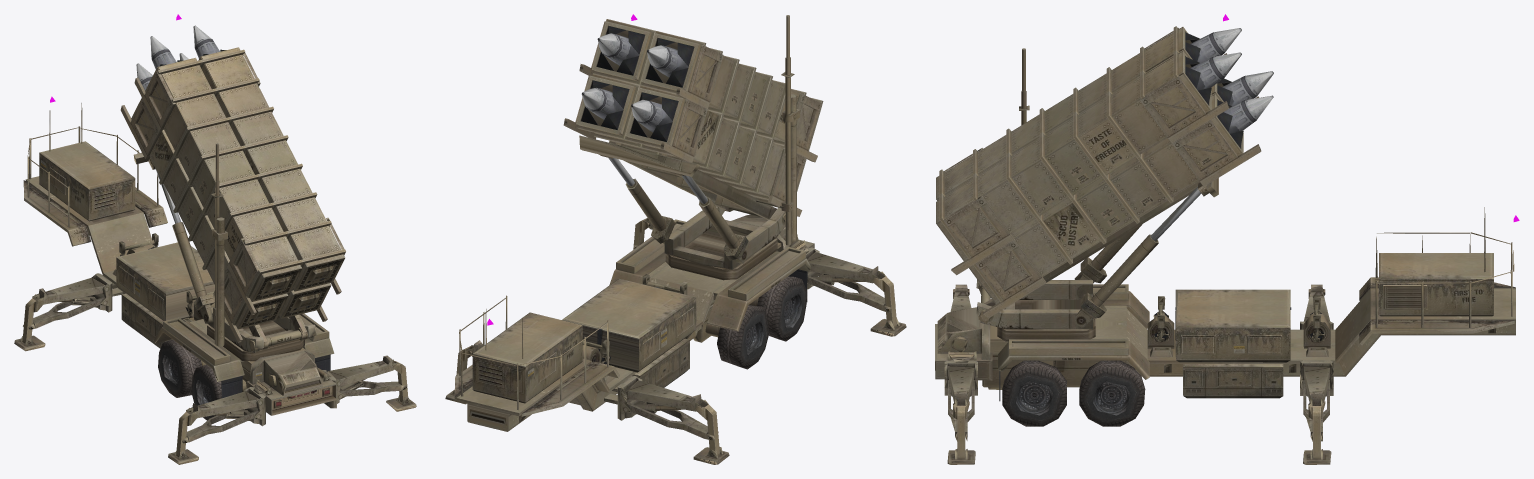
Rendered from sam.glb.
3 views of the same model, side by side, from view 1: azimuth 30°, elevation 25°; view 2: azimuth 150°, elevation 25°; view 3: azimuth 270°, elevation 25° (orthographic). The views are drawn at different scales.
Visible parts, largest first — view 1: Body_2, Body_1; view 2: Body_2, Body_1; view 3: Body_2, Body_1.
Boxes of the visible parts, x1,y1,x2,y2 form: Body_2: [14, 25, 416, 464]; Body_1: [158, 339, 221, 420]; Body_2: [445, 15, 906, 464]; Body_1: [717, 276, 807, 369]; Body_2: [935, 26, 1515, 464]; Body_1: [1002, 360, 1145, 426].
Size of the model in its own units: 12.07 by 16.05 by 22.15.
3 materials, 2 textured.
